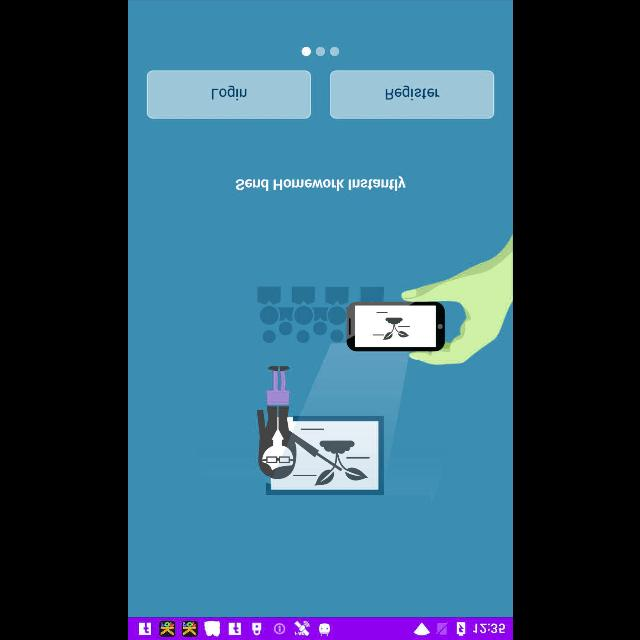image: (256, 235, 512, 495)
pageindicator: (300, 46, 340, 58)
text: (235, 176, 405, 192)
textbutton: (146, 70, 310, 120), (329, 70, 493, 120)
uppertaskbar: (128, 617, 512, 639)
